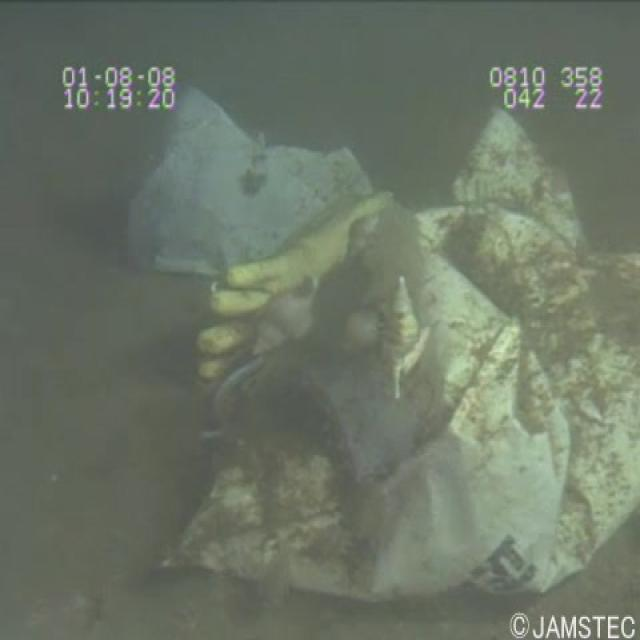plastic: (95, 58, 633, 604)
